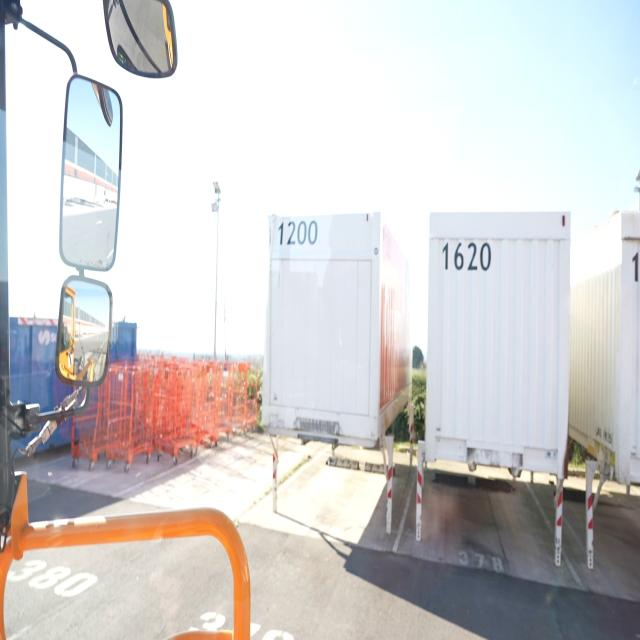Code: (439, 237, 491, 276), (276, 217, 319, 250)
